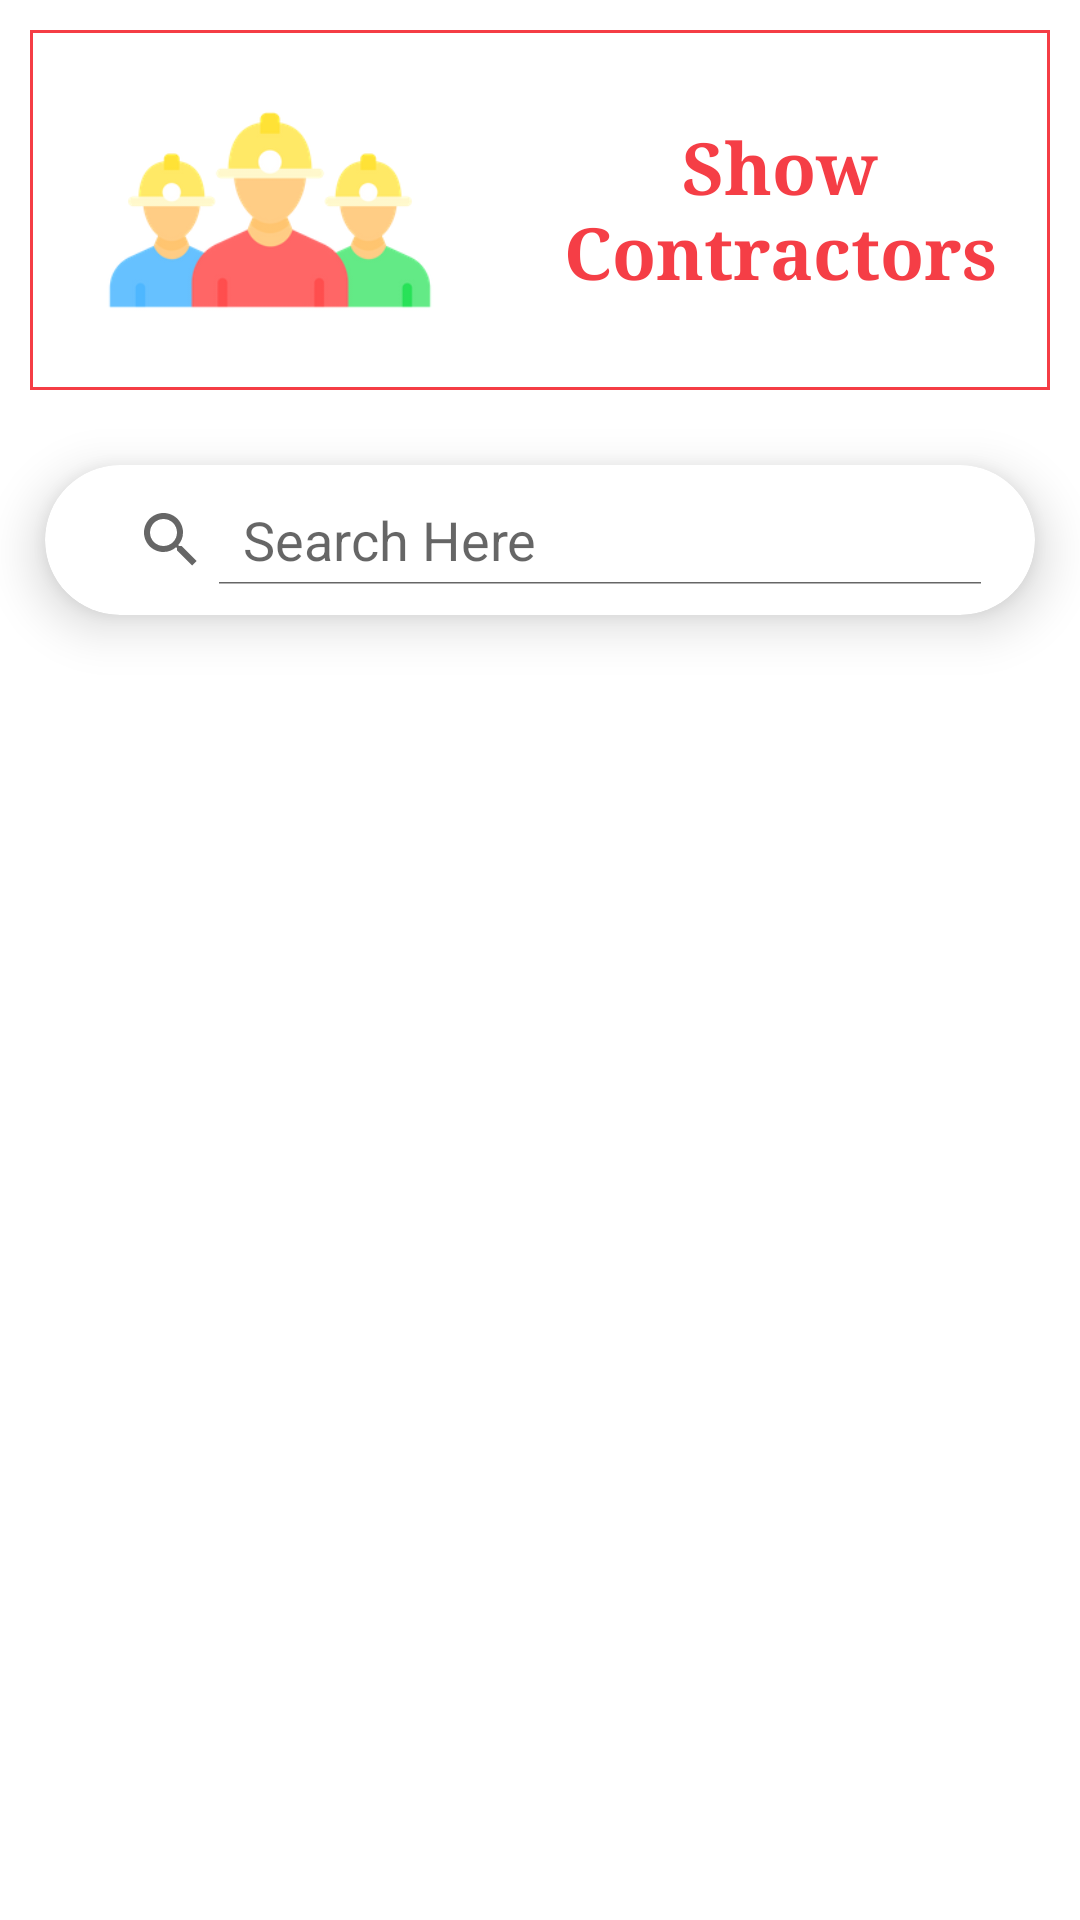

Named icons in this screenshot (1080*1920) and their centers, point (x, y):
worker: point (270, 210)
